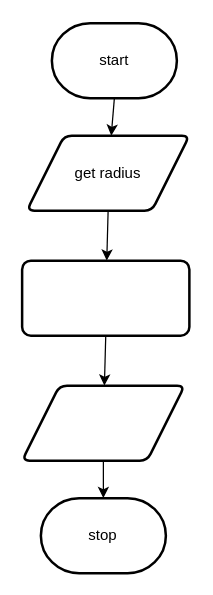
The diagram is 213 pixels wide and 595 high, and some of its shapes have lost their labels. The shapes that lost their labels are listed below. From the top down, each one's centre as x and y in pixels, then its label:
At pixel 105 297: "circumferenc e = τ * radius".
At pixel 102 422: "show circumference".
